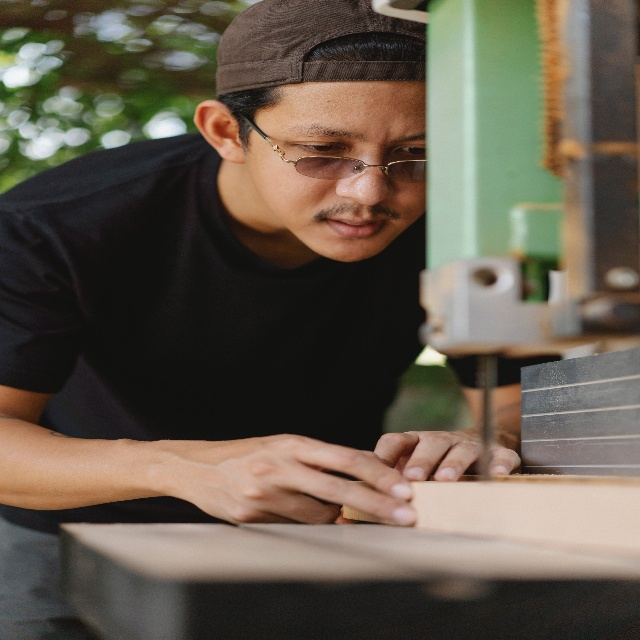Gafas: (238, 111, 426, 185)
Sin_guantes: (182, 433, 417, 526), (373, 427, 520, 484)
